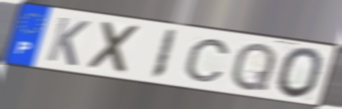C: (183, 37, 233, 84)
I: (148, 27, 180, 82)
K: (44, 15, 92, 69)
O: (274, 46, 326, 101)
Q: (229, 41, 279, 93)
X: (86, 19, 144, 76)
